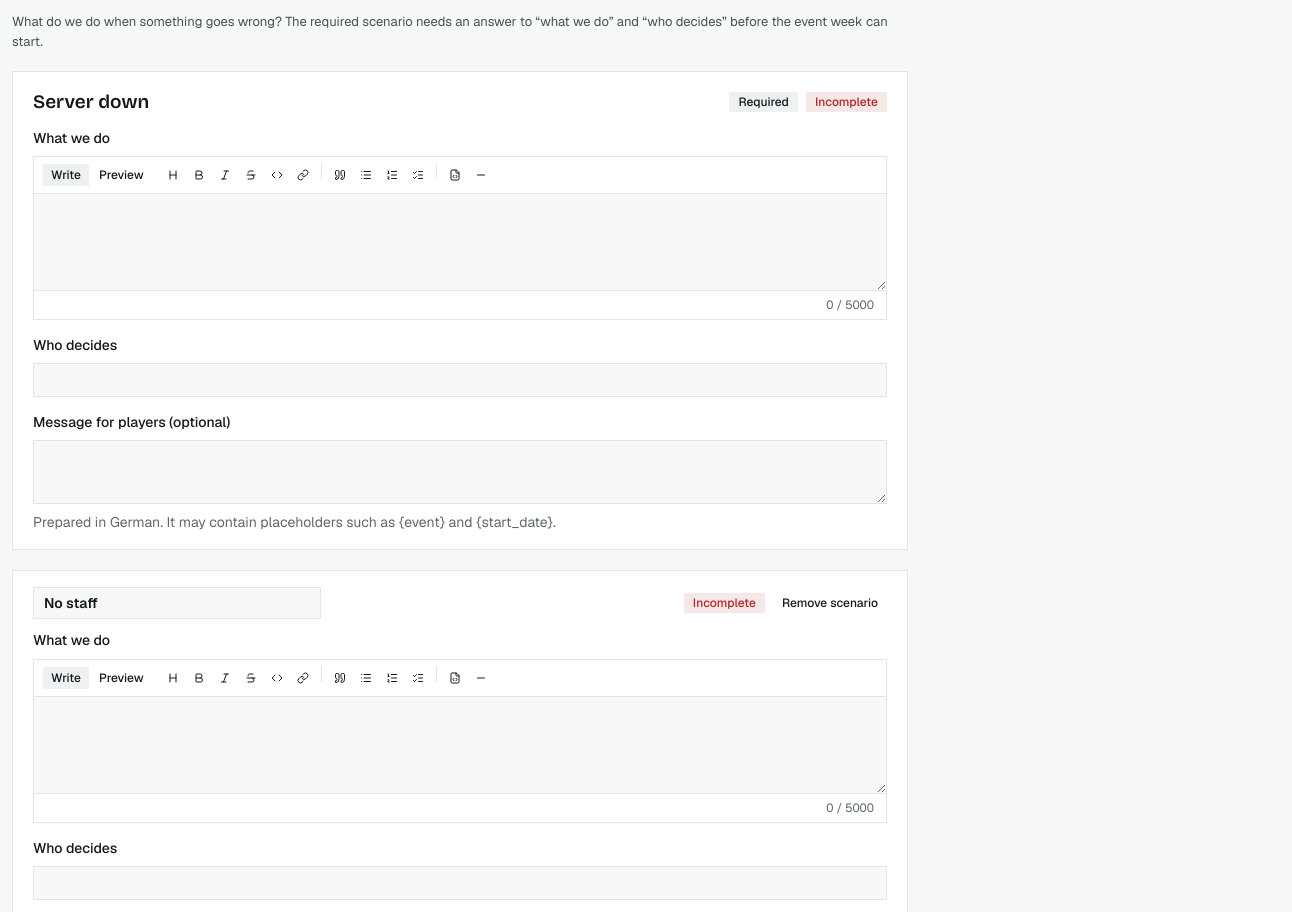
FallbackTab › keeps typed text when a refetch changes another scenario
This screenshot has width=1292, height=912.
Type "The lead" into the field labelled "Who decides" below "Server down".
click(460, 380); type("The lead")  # box [33,363,887,397]
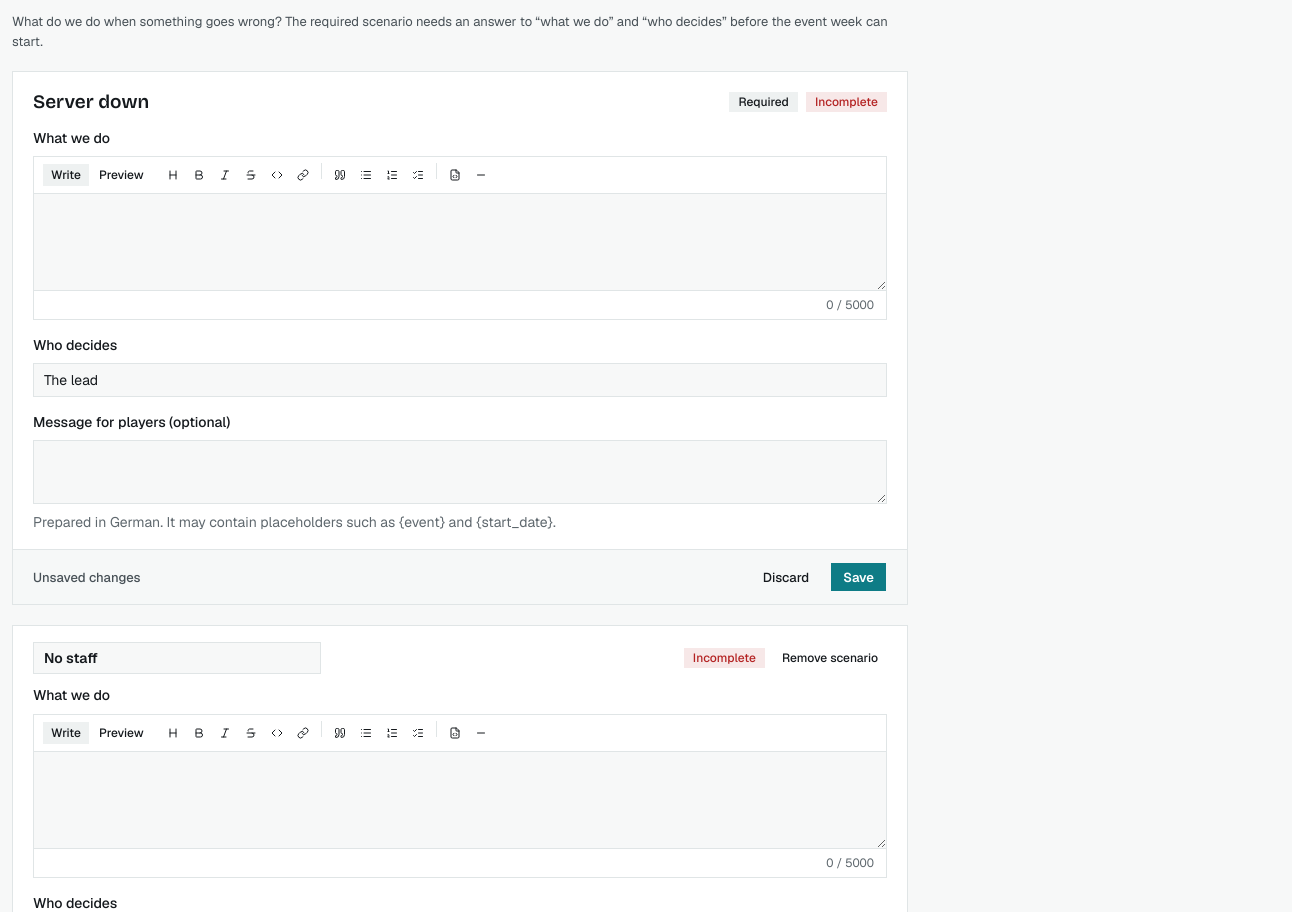
Expected: the text "Unsaved changes" is shown once, [33,568,140,587]
